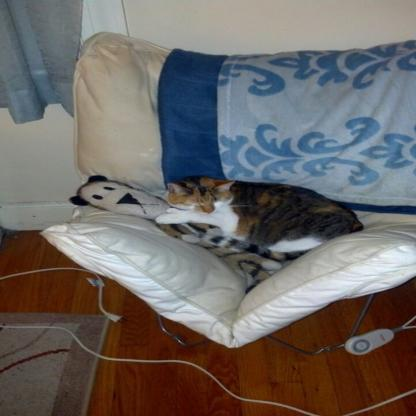Target: (149, 177, 374, 260)
